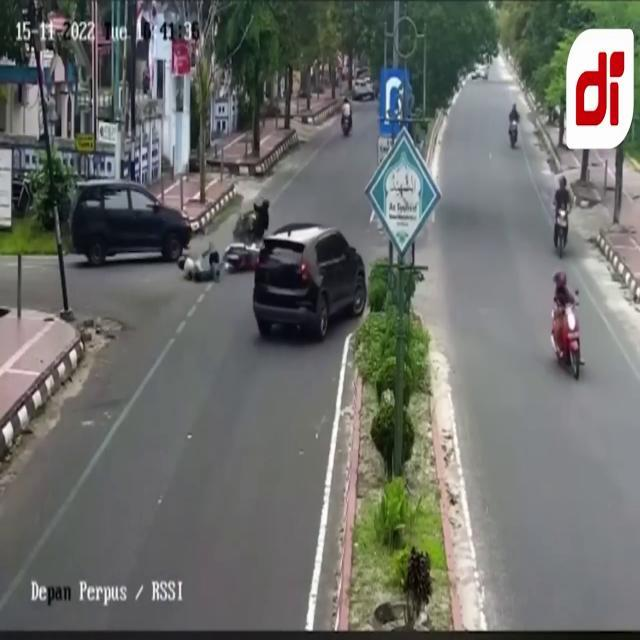multiple_accident: (152, 170, 274, 288)
normal: (512, 177, 602, 393)
